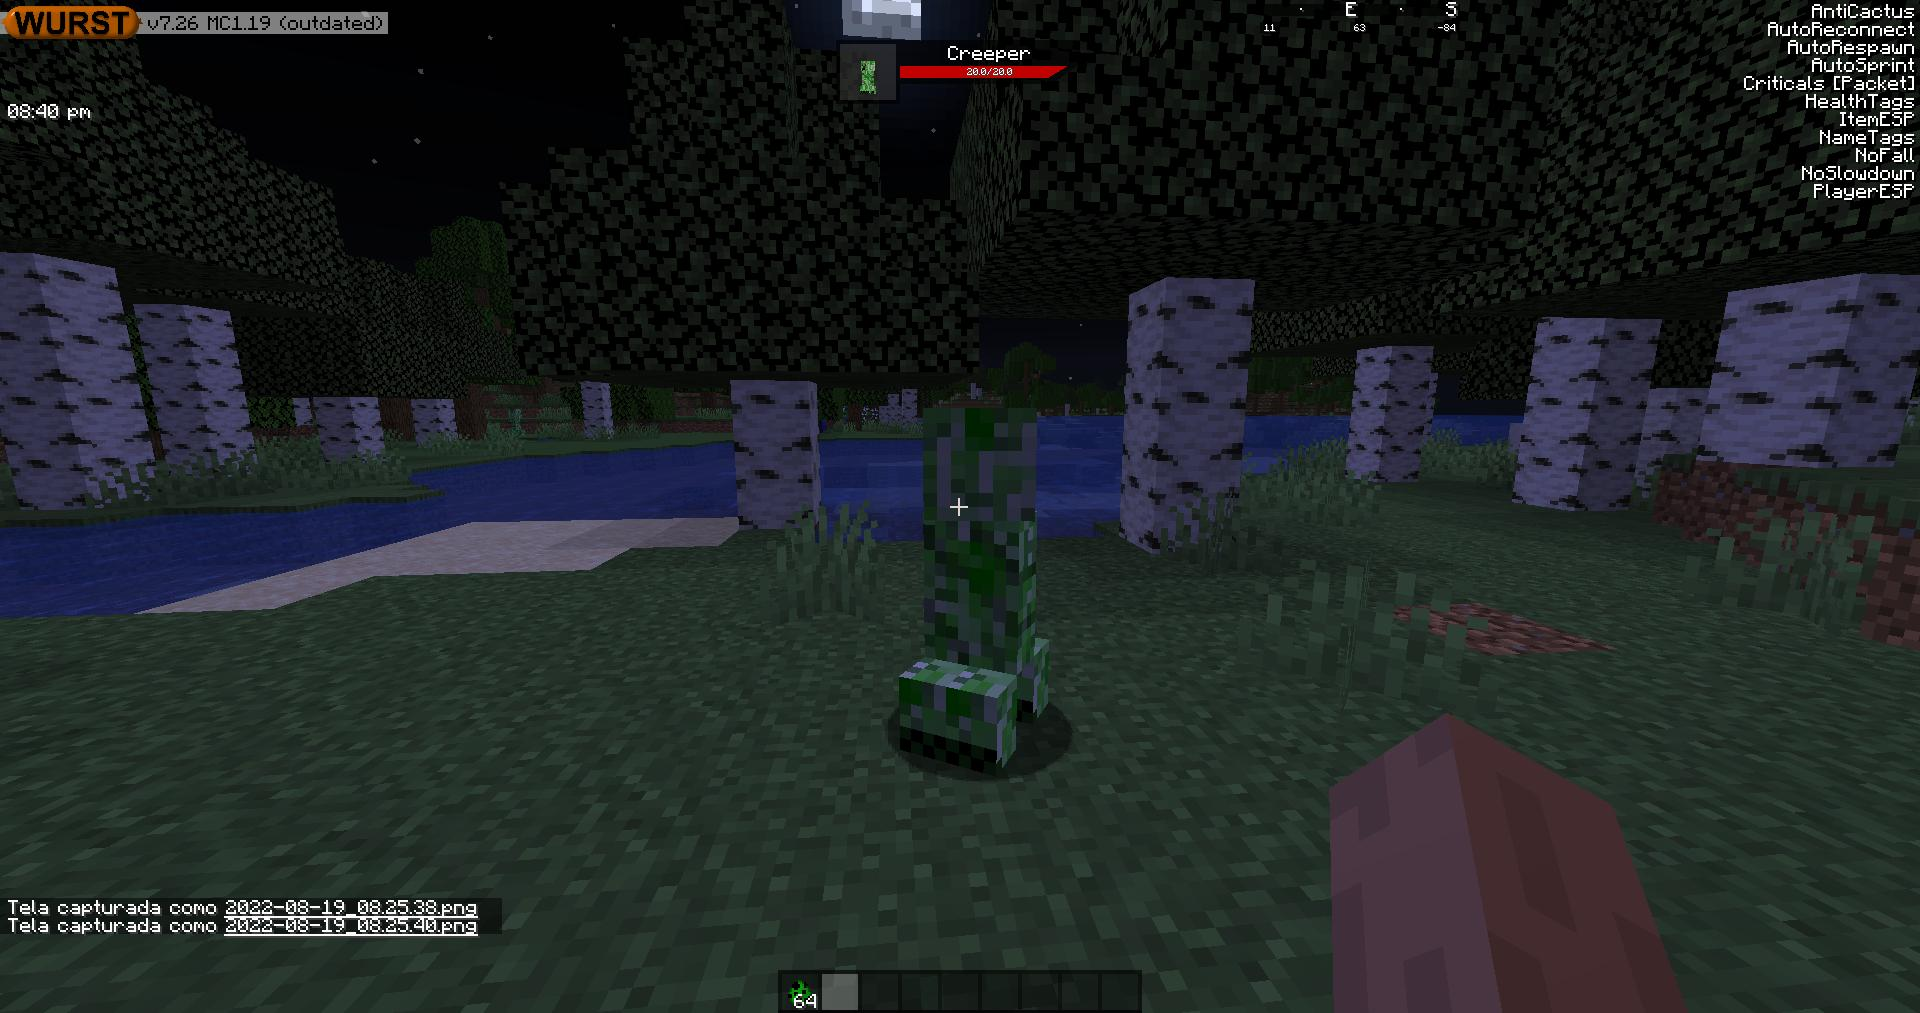creeper: (897, 397, 1053, 765)
